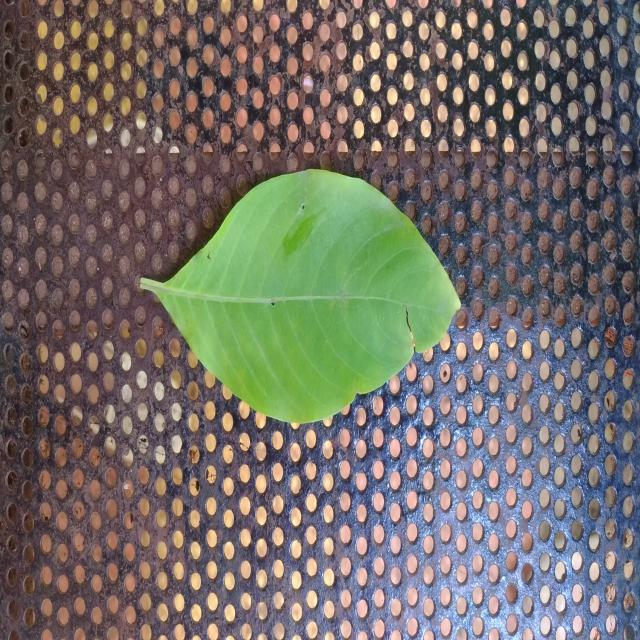malabar_nut: (141, 169, 460, 422)
